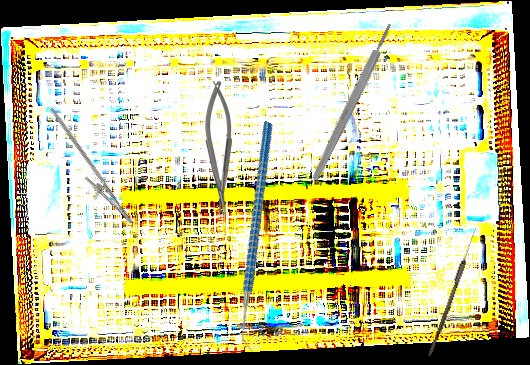Chopper: (171, 120, 348, 353)
Needle Holder: (29, 106, 146, 232), (205, 80, 232, 216)
Scalpel Handle: (310, 22, 395, 182)
Surgical Spoon: (428, 226, 478, 358)
